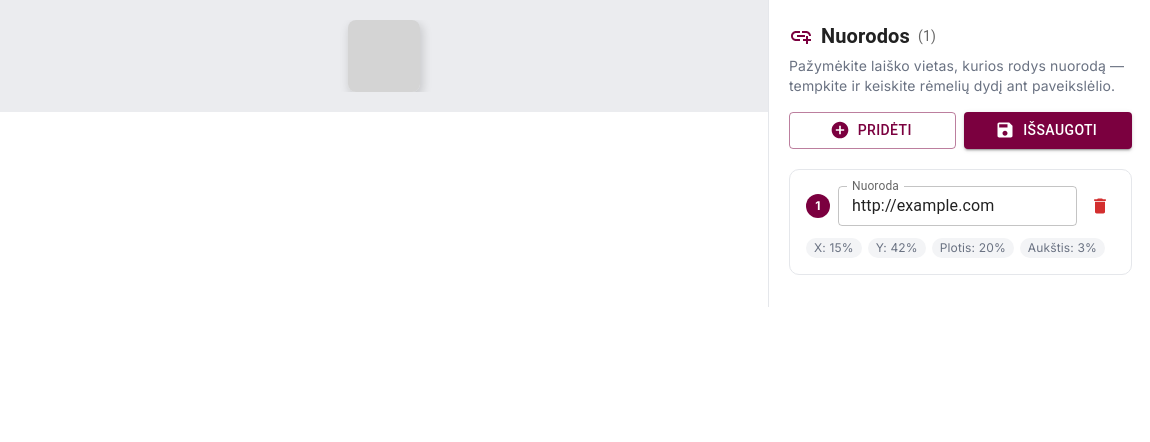
Test: InteractiveImageEditor — adding, selecting, deleting, editing › 'Pridėti' adds an empty 20 × 20 % area at 10 % / 10 % and selects it
Expected: the heading "Nuorodos" is shown, [821,20,910,52]
Click the button "Pridėti" at (873, 130), box [789,112,956,148]
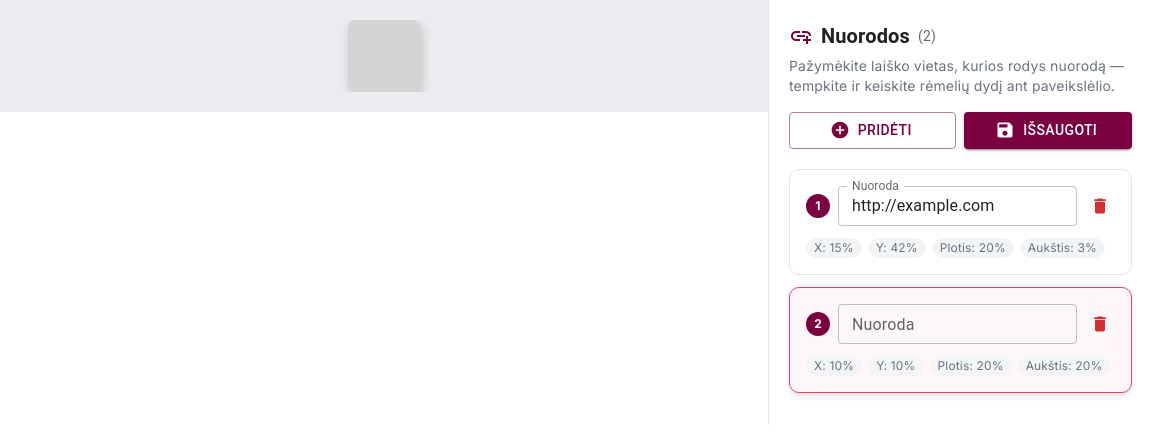
Expected: the text "(2)" is shown, [918,26,936,46]
Expected: the text "2" is shown, [806,312,830,336]
Expected: the 2nd field labelled "Nuoroda" is empty, [838,304,1077,344]
